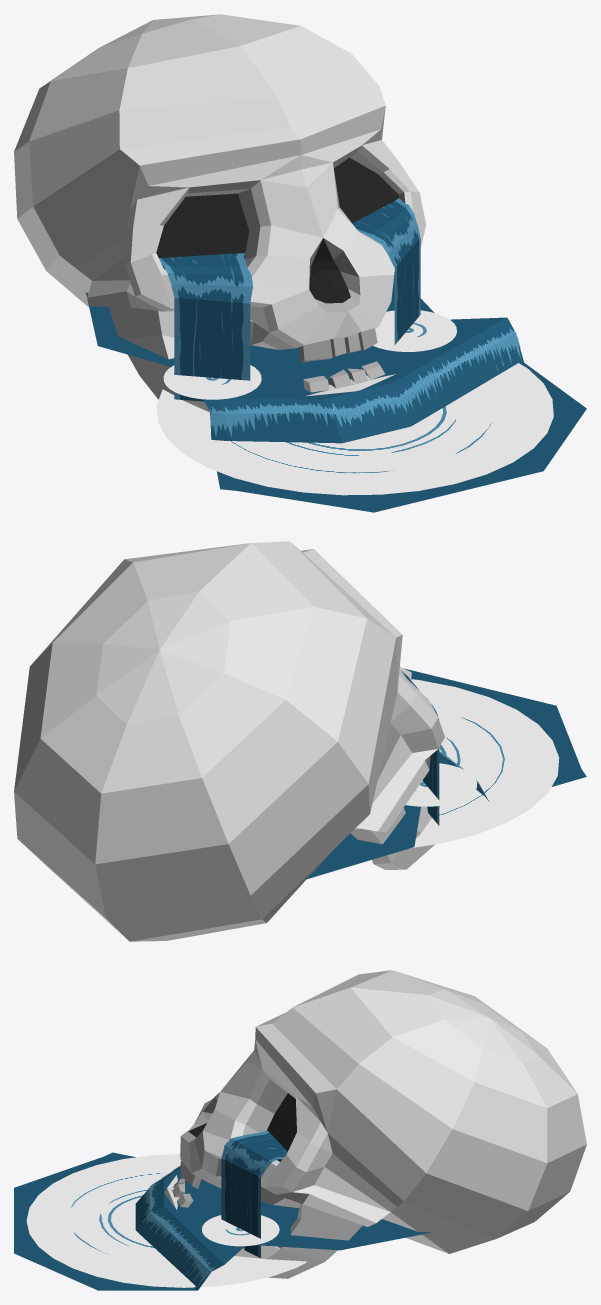
Rendered from WaterSkull.fbx.
3 renders of one model, top to bottom at view 1: azimuth 30°, elevation 25°; view 2: azimuth 150°, elevation 25°; view 3: azimuth 270°, elevation 25°, orthographic. The views are drawn at different scales.
Visible parts, largest first — view 1: WaterSkull, WaterCircle, WaterPlane, WaterFalls; view 2: WaterSkull, WaterCircle, WaterPlane, WaterFalls; view 3: WaterSkull, WaterCircle, WaterPlane, WaterFalls.
Part boxes in pixels (<box>): WaterSkull: <box>14,14,426,412</box>; WaterCircle: <box>156,310,553,495</box>; WaterPlane: <box>86,272,586,512</box>; WaterFalls: <box>159,198,520,436</box>; WaterSkull: <box>14,541,444,941</box>; WaterCircle: <box>405,679,559,848</box>; WaterPlane: <box>305,668,586,879</box>; WaterFalls: <box>401,671,485,825</box>; WaterSkull: <box>164,970,586,1278</box>; WaterCircle: <box>26,1154,306,1287</box>; WaterPlane: <box>14,1152,432,1290</box>; WaterFalls: <box>142,1130,287,1285</box>.
Size of the model in its own units: 2.08 by 3.64 by 1.79.
